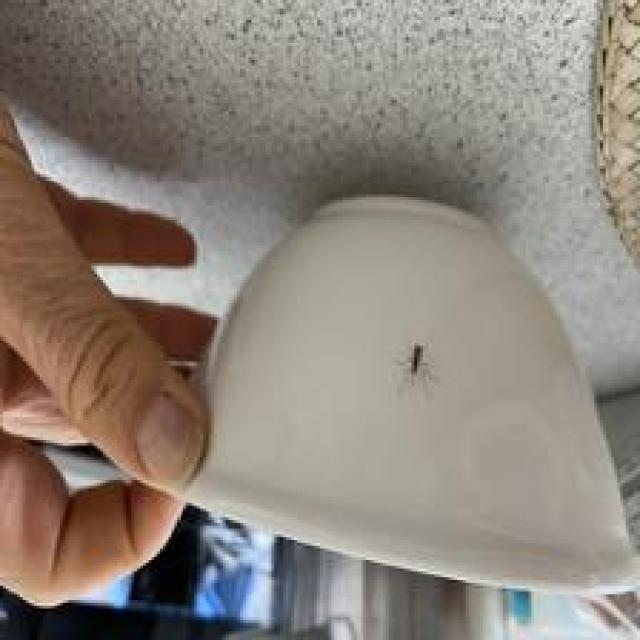Culex: (7, 190, 639, 599)
